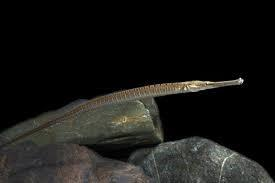Long-Snouted Pipefish: (0, 77, 249, 157)
